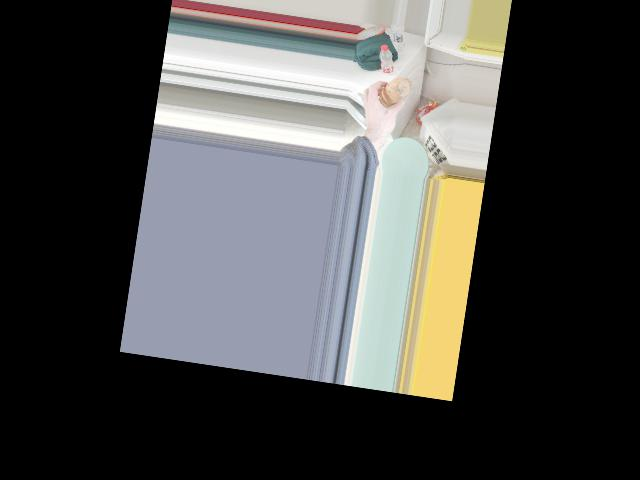sweet_potato: (377, 75, 410, 112)
